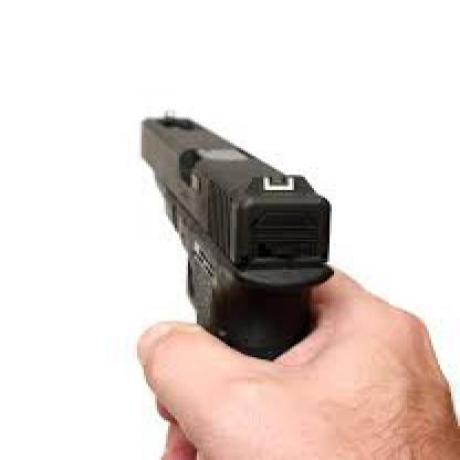1: (137, 263, 457, 460)
weapon: (114, 95, 348, 383)
